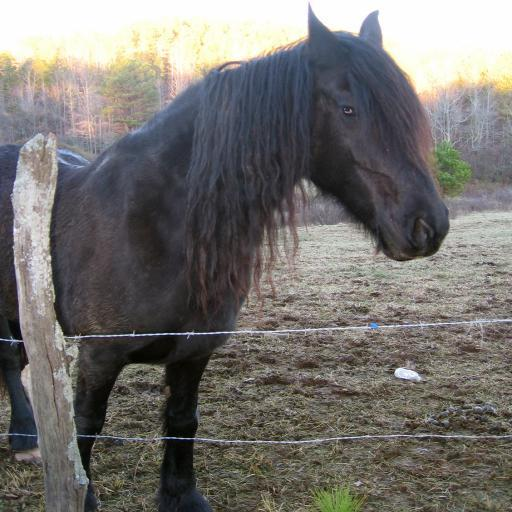horse: (0, 0, 452, 512)
